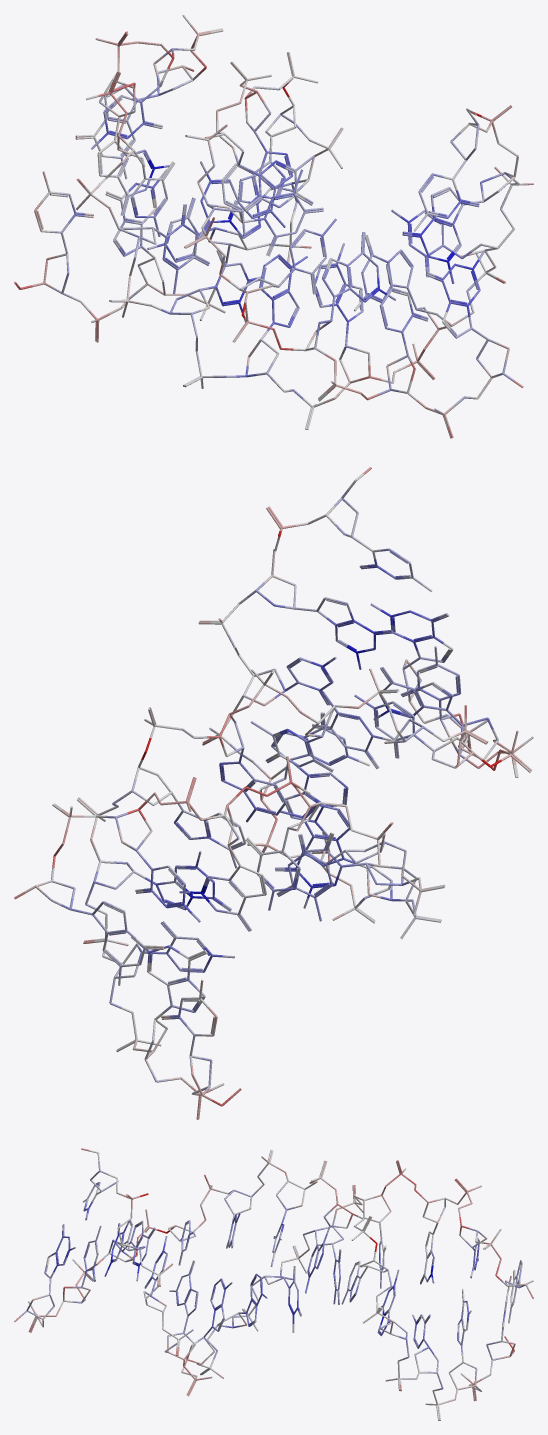
File: 1bna__lines__b-factor.glb
The picture shows the model from 3 angles, top to bottom: view 1: azimuth 30°, elevation 25°; view 2: azimuth 150°, elevation 25°; view 3: azimuth 270°, elevation 25°; orthographic projection. The views are drawn at different scales.
Parts seen in each view (by area): view 1: Renderer Node; view 2: Renderer Node; view 3: Renderer Node.
Part boxes in pixels (<box>): Renderer Node: <box>14,14,533,438</box>; Renderer Node: <box>14,467,533,1119</box>; Renderer Node: <box>14,1148,533,1420</box>.
Size of the model in its own units: 22.54 by 26.24 by 42.59.
